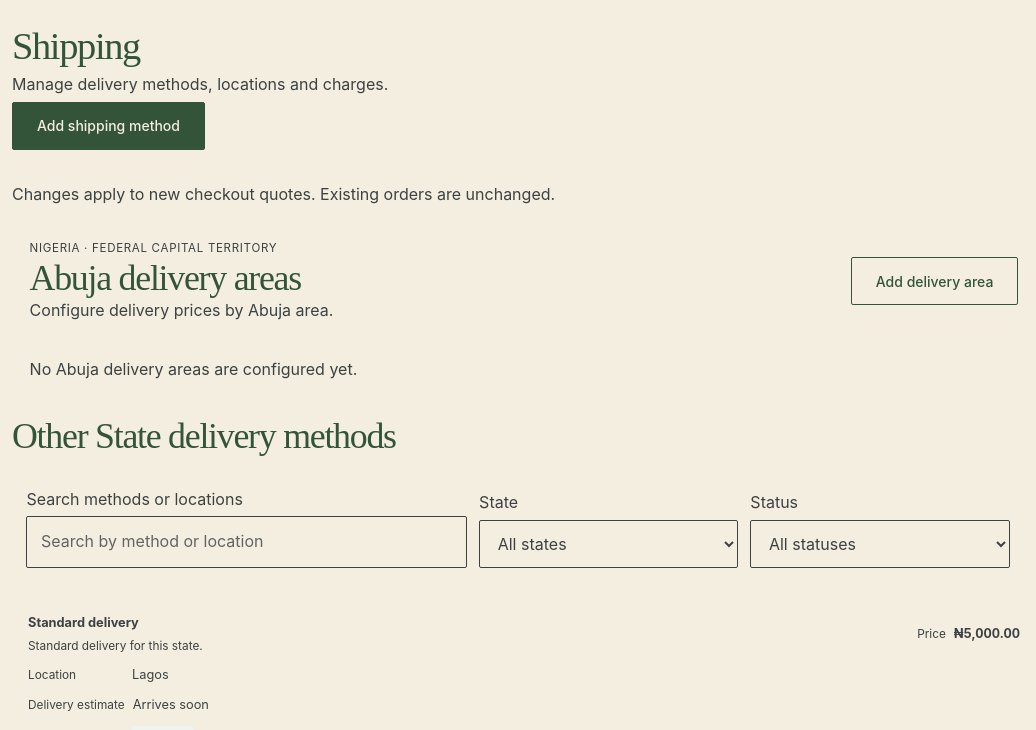
Test: owner commerce settings › combines search, state and status filters across the complete configuration
Type "express" into the search field labelled "Search methods or locations". click: (247, 542)
box: [26,516,467,568]
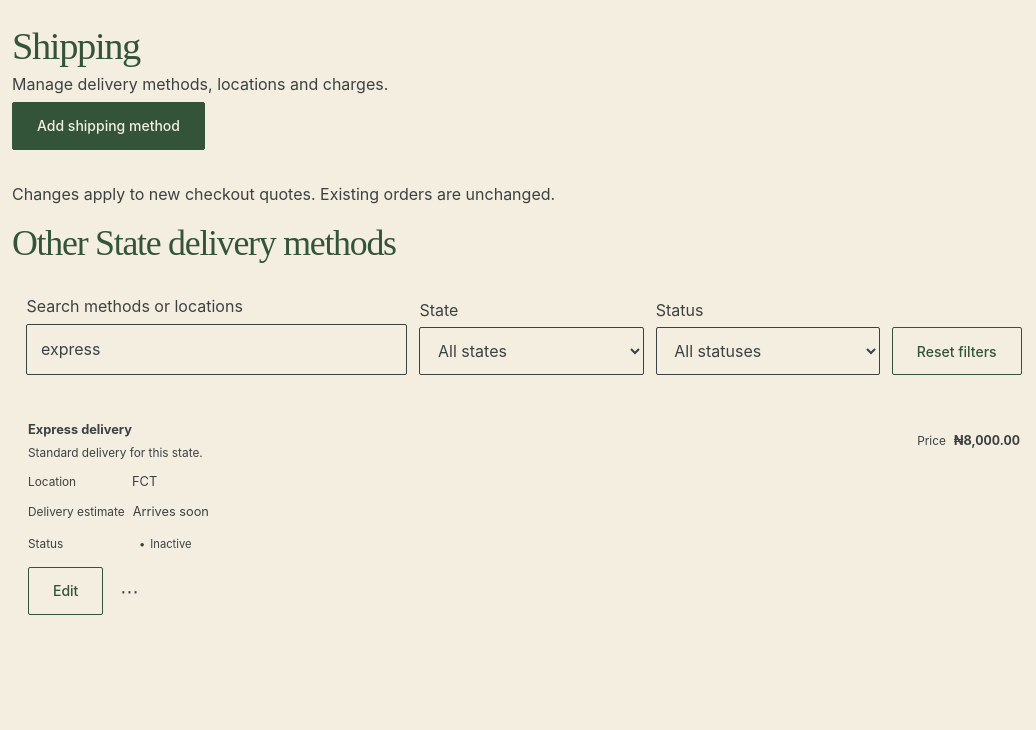
Select "FCT" in the dropdown labelled "State". click: (532, 351)
box: [420,327,644,375]
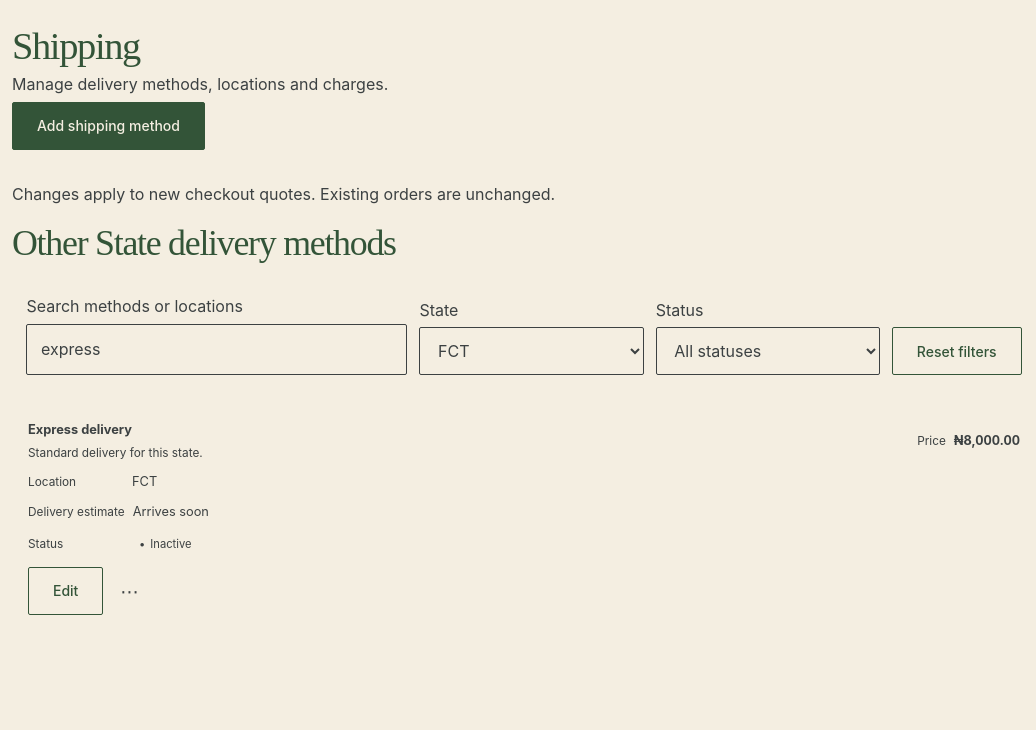
Select "Inactive" in the dropdown labelled "Status". click: (768, 351)
box: [656,327,880,375]
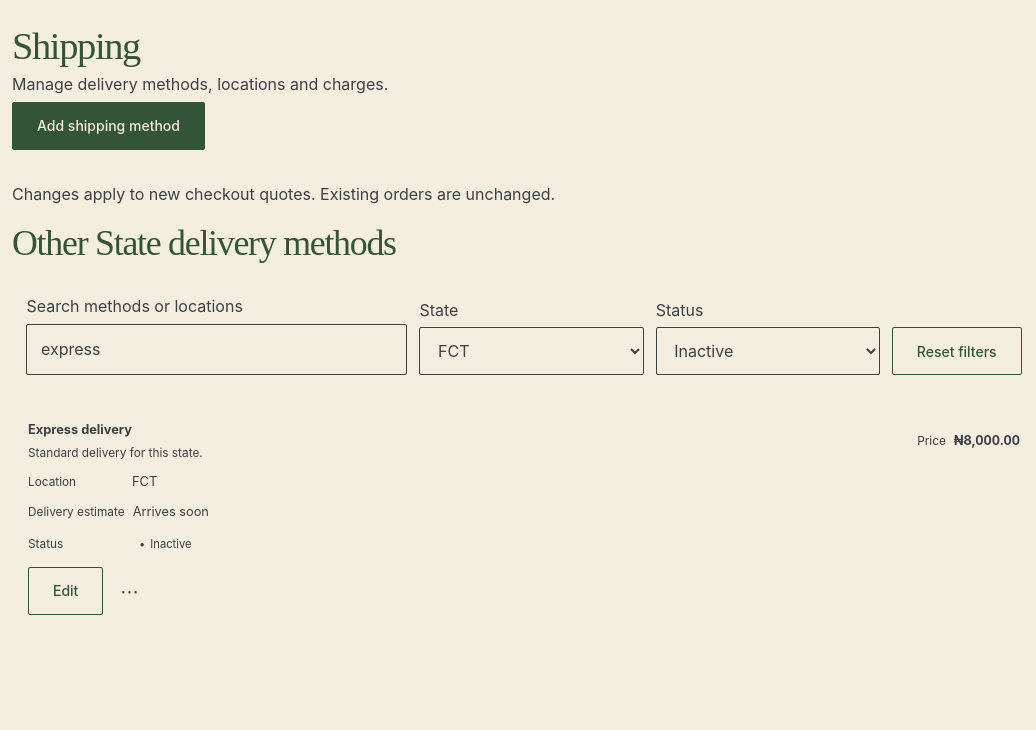
Check: the text "Express delivery" is shown, box [28,422,132,438]
Select "Active" in the dropdown labelled "Status". click: (768, 351)
box: [656,327,880,375]
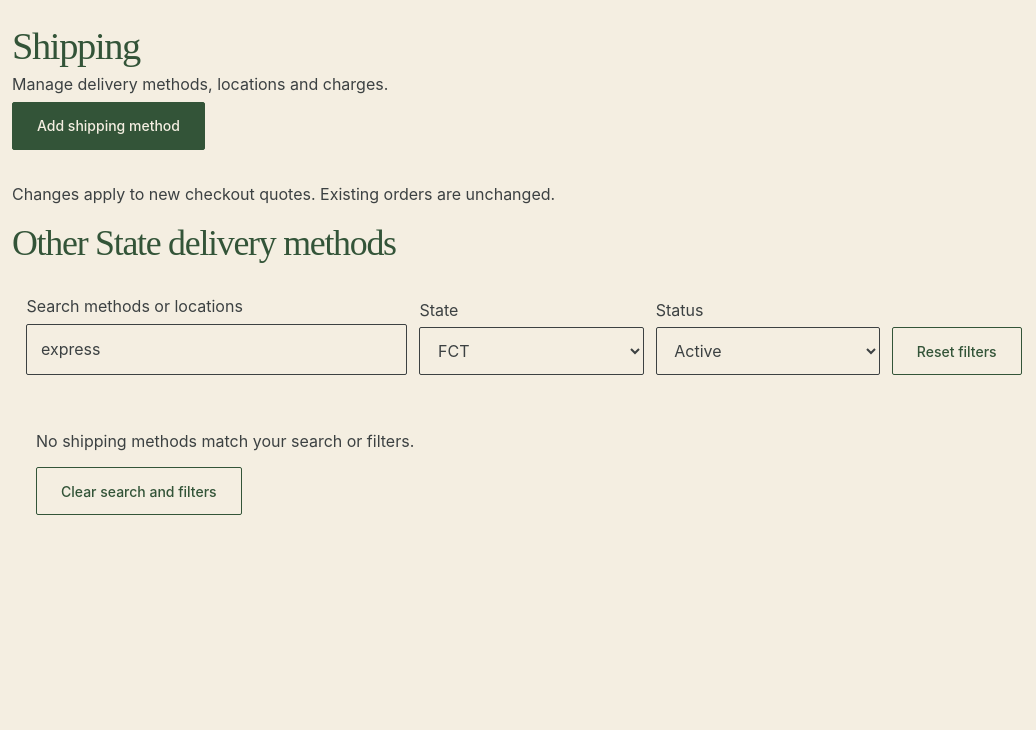
Check: the text "No shipping methods match your search or filters." is shown, box [36,430,414,455]
Click the button "Clear search and filters". click: (139, 491)
box: [36,467,242,515]
(page scrolled)
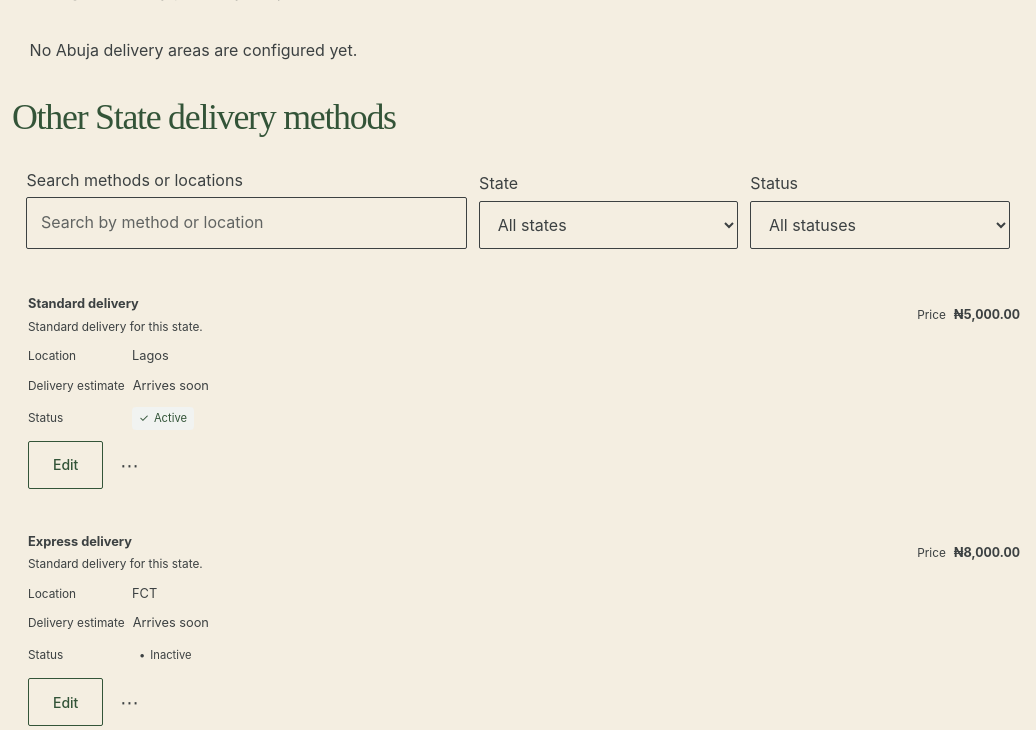
Check: the text "Standard delivery" is shown, box [28,296,139,311]
Check: the text "Express delivery" is shown, box [28,534,132,549]
